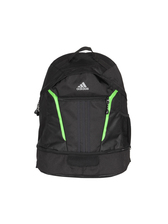bag: (20, 44, 149, 182)
